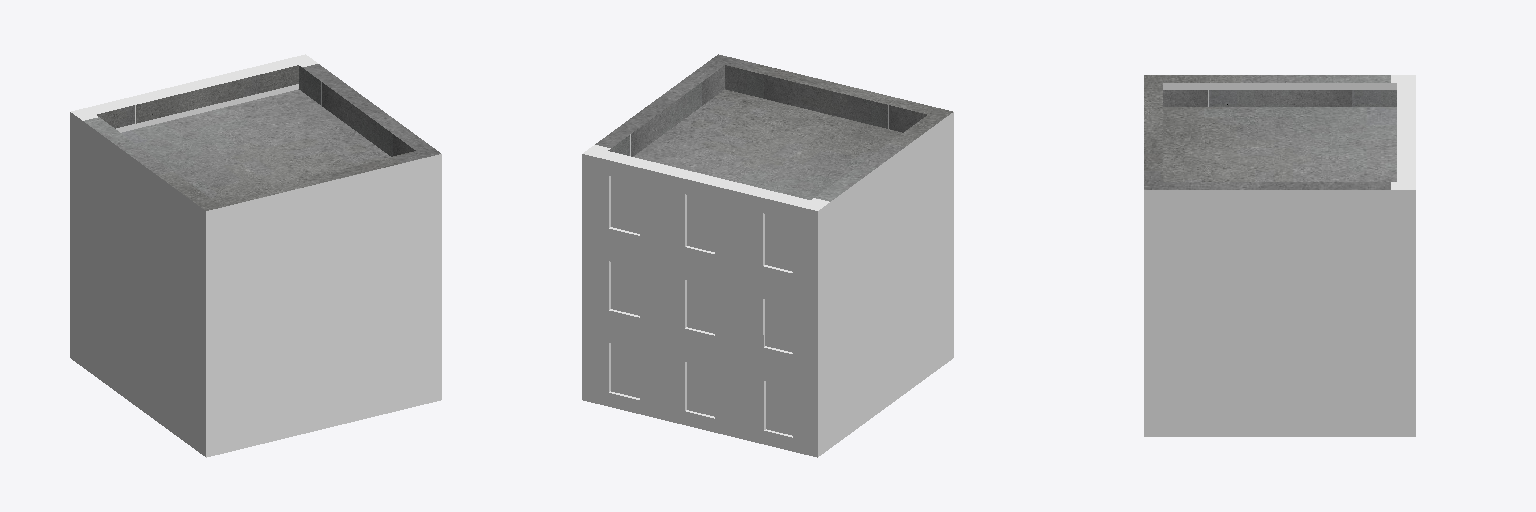
3 views of the same model, side by side, from view 1: azimuth 30°, elevation 25°; view 2: azimuth 150°, elevation 25°; view 3: azimuth 270°, elevation 25° (orthographic).
Parts seen in each view (by area): view 1: Mesh Mesh Mesh; view 2: Mesh Mesh Mesh; view 3: Mesh Mesh Mesh.
Part boxes in pixels (x1,y1,x2,y2): Mesh Mesh Mesh: (70, 54, 441, 457); Mesh Mesh Mesh: (582, 54, 953, 457); Mesh Mesh Mesh: (1144, 75, 1415, 436).
Size of the model in its own units: 4.9 by 4.9 by 4.9.
3 materials, 1 textured.